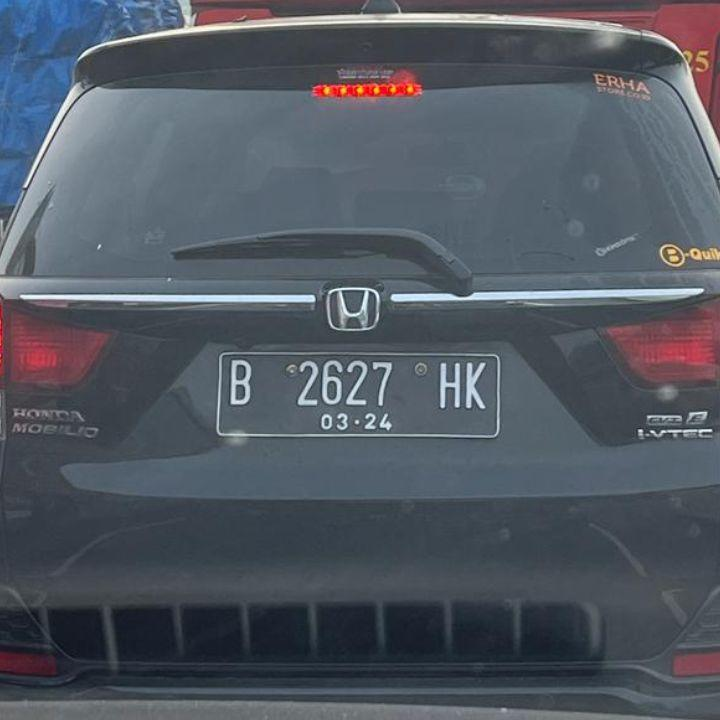plat: (217, 353, 499, 439)
